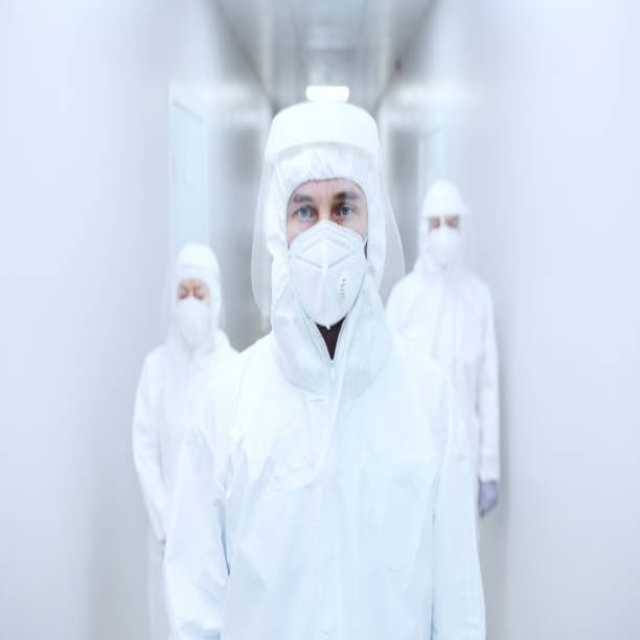Guantes: (478, 474, 502, 519)
Mascara: (287, 220, 367, 327), (175, 295, 214, 348), (423, 224, 460, 268)
Sin_gafas: (291, 190, 360, 231)
